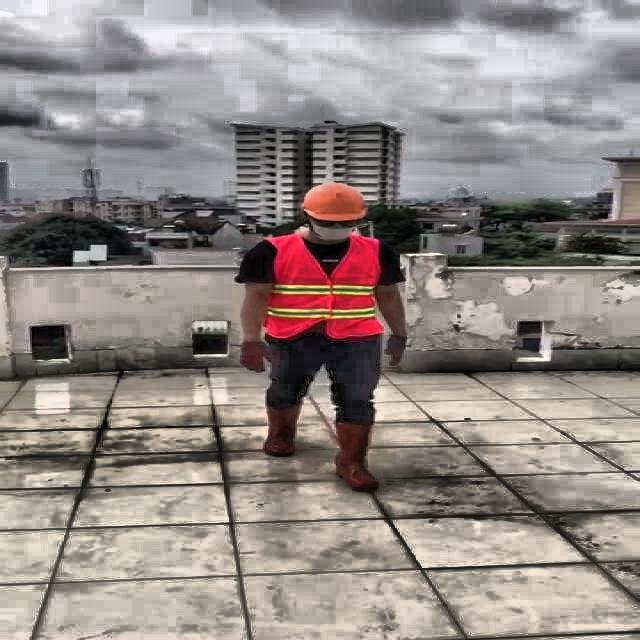safety_helmet: (291, 179, 374, 224)
safety_jacket: (268, 238, 384, 339)
